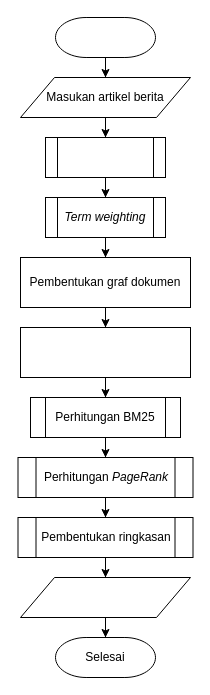
Image size: 210x695. Some labels were removed from this diagram. Each missing label, with the box of its shape:
Keluaran ringkasan: (20, 576, 190, 618)
Mulai: (54, 16, 156, 58)
Pembentukan node kalimat: (20, 326, 190, 378)
Preprocessing: (44, 136, 166, 178)
